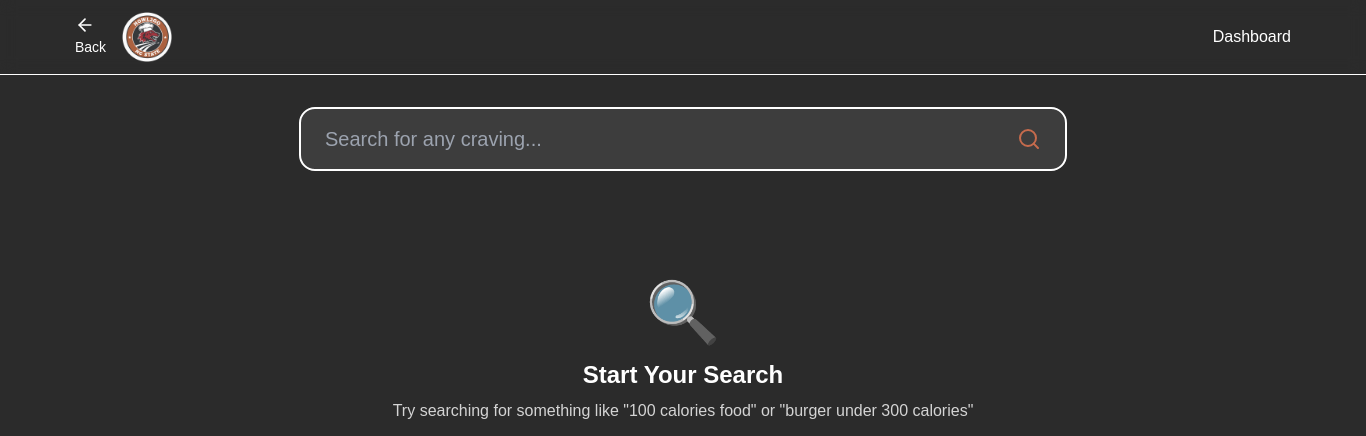
Test: Search Page › Search Icon and CTA › shows Enter key CTA when typing
Type "p" into the field named "Search for food" at (667, 139), box [325, 125, 1009, 153]
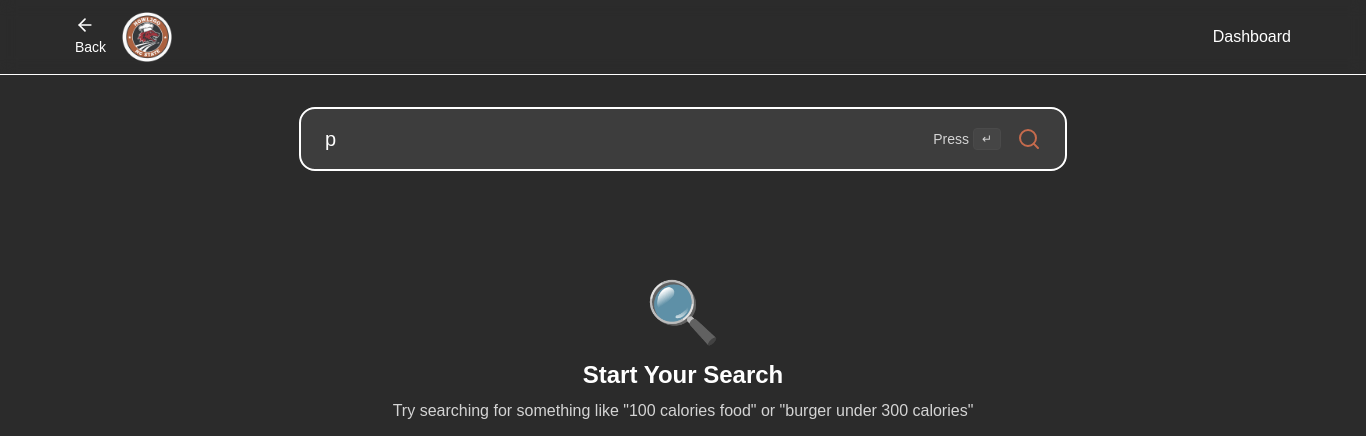
Expected: the text "↵" is shown, [973, 128, 1001, 150]
